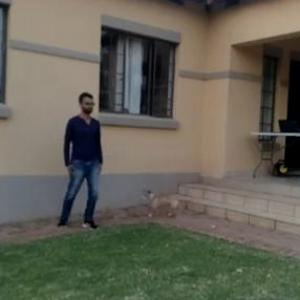follow: (58, 89, 106, 233)
